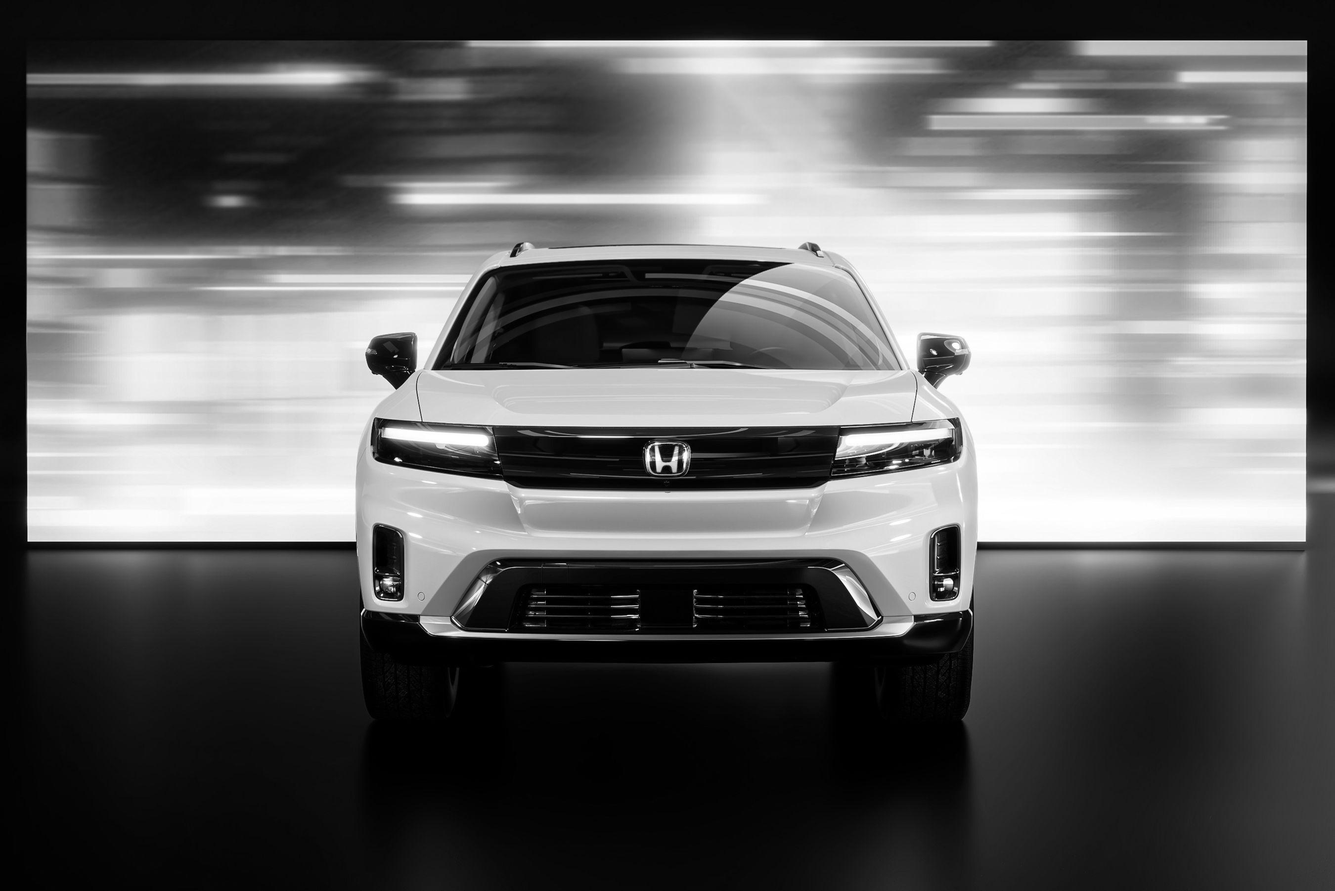Car hood: (359, 363, 963, 434)
Front bumper: (343, 458, 988, 653)
Headlight - -L-: (824, 417, 963, 493)
Headlight - -R-: (366, 414, 500, 489)
Side mirror - -L-: (910, 331, 972, 392)
Side mirror - -R-: (358, 327, 420, 393)
